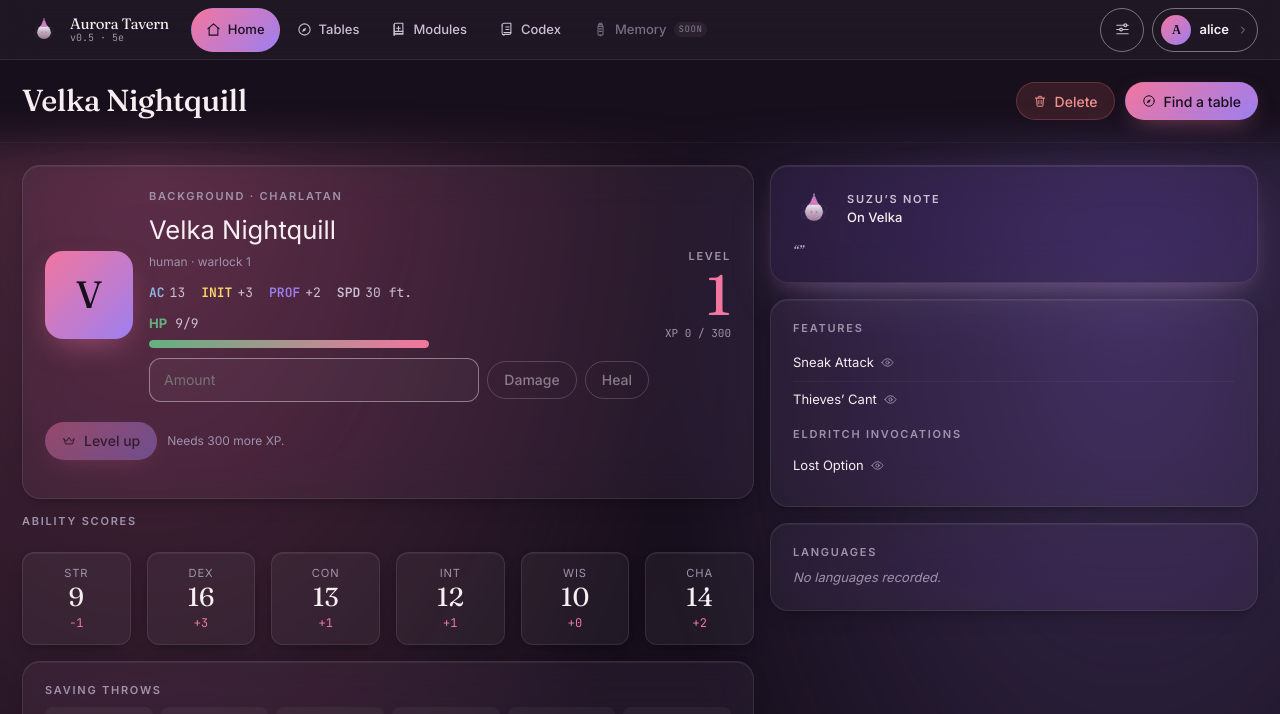
Test case: Character sheet — INVOC chosen feature choices (Kage I2/m8) › Kage r2-1 pin: an unresolvable pick (blank description) opens to the NEUTRAL empty copy, never "for this spell yet"
Expected: the heading "Velka Nightquill" is shown, [22, 84, 246, 118]
Click the button named "Feature details: Lost Option".
click(878, 466)  # box [868, 456, 888, 476]
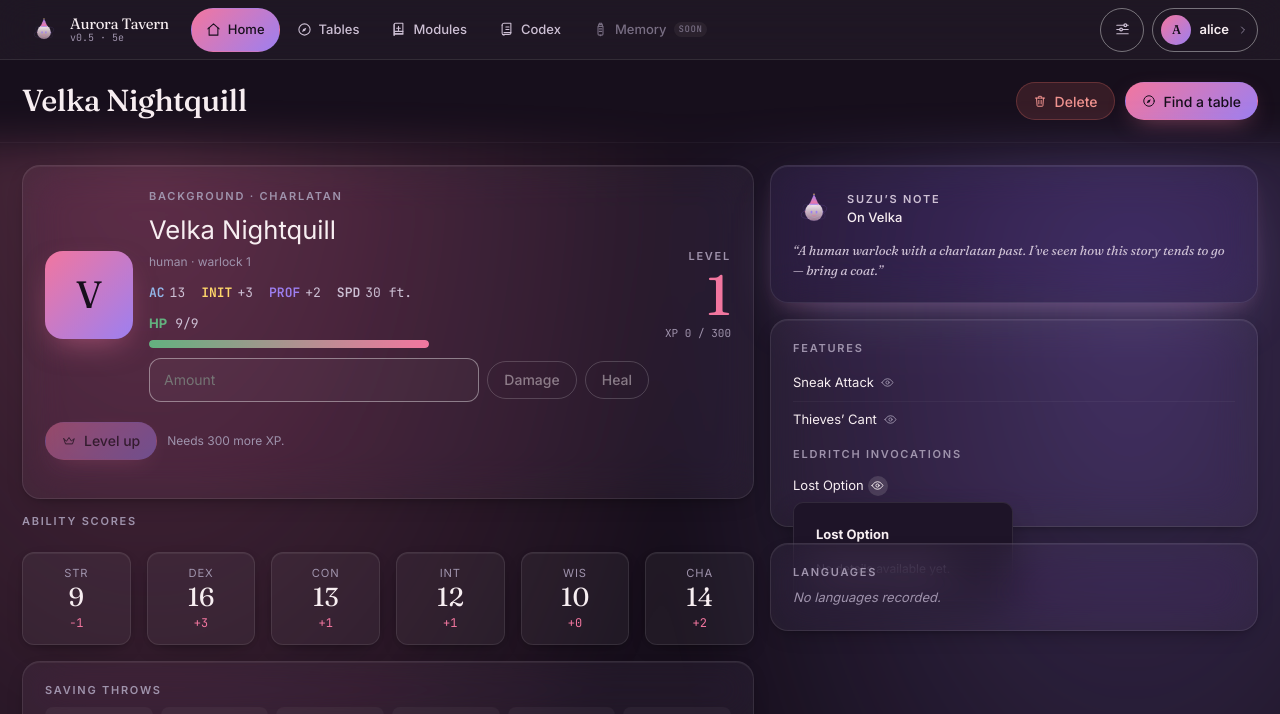
Result: the text "No details available yet." is shown at [816, 561, 950, 576]
